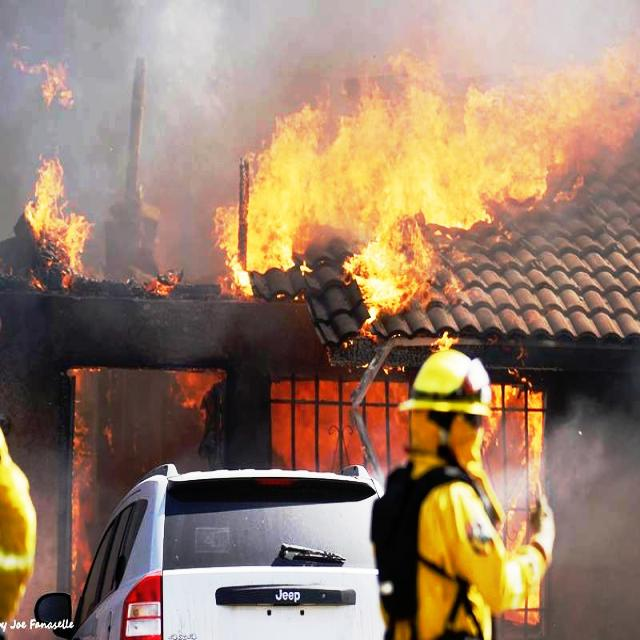api: (218, 18, 640, 318), (477, 374, 558, 636), (2, 151, 102, 304), (13, 56, 90, 123), (142, 268, 187, 308)
